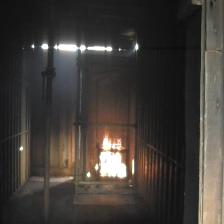fire: (99, 129, 127, 178)
